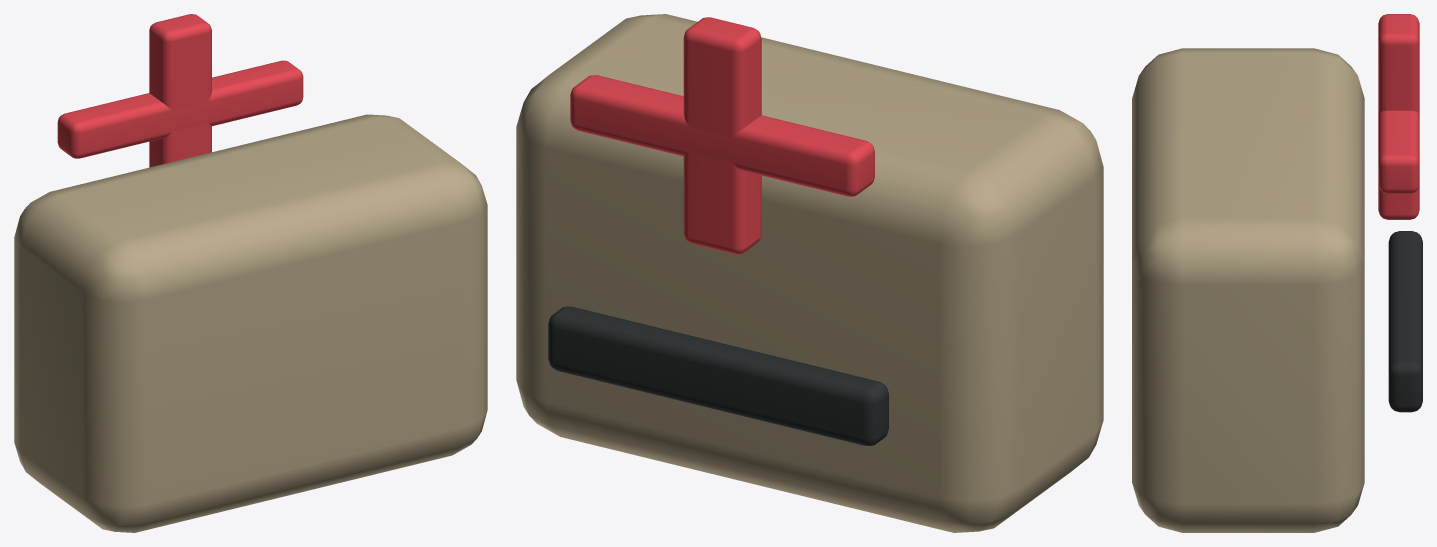
Rendered from loot_firstaid_final.glb.
3 views of the same model, side by side, from view 1: azimuth 30°, elevation 25°; view 2: azimuth 150°, elevation 25°; view 3: azimuth 270°, elevation 25° (orthographic). The views are drawn at different scales.
Visible parts, largest first — view 1: firstaid_fabric_medical_case, red_cross_horizontal, red_cross_vertical; view 2: firstaid_fabric_medical_case, black_zipper_and_handle, red_cross_horizontal, red_cross_vertical; view 3: firstaid_fabric_medical_case, black_zipper_and_handle, red_cross_vertical, red_cross_horizontal.
Part boxes in pixels (bbox=[...]): firstaid_fabric_medical_case: bbox=[14, 114, 487, 532]; red_cross_horizontal: bbox=[57, 60, 303, 158]; red_cross_vertical: bbox=[149, 14, 211, 167]; firstaid_fabric_medical_case: bbox=[516, 14, 1103, 532]; black_zipper_and_handle: bbox=[548, 306, 888, 445]; red_cross_horizontal: bbox=[570, 75, 874, 196]; red_cross_vertical: bbox=[683, 17, 761, 254]; firstaid_fabric_medical_case: bbox=[1132, 48, 1364, 532]; black_zipper_and_handle: bbox=[1388, 231, 1422, 412]; red_cross_vertical: bbox=[1378, 14, 1419, 219]; red_cross_horizontal: bbox=[1378, 110, 1419, 193].
Size of the model in its own units: 0.6336 by 0.5984 by 0.374.
